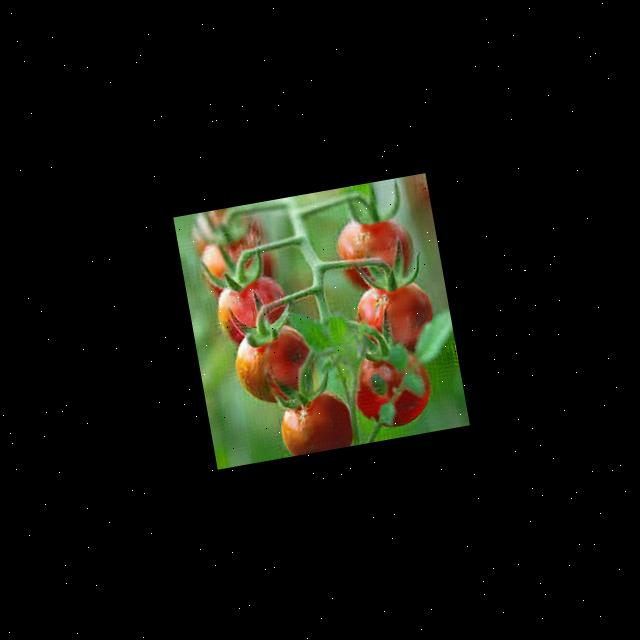tomato: (228, 317, 320, 409), (350, 273, 436, 359), (275, 389, 354, 456)
